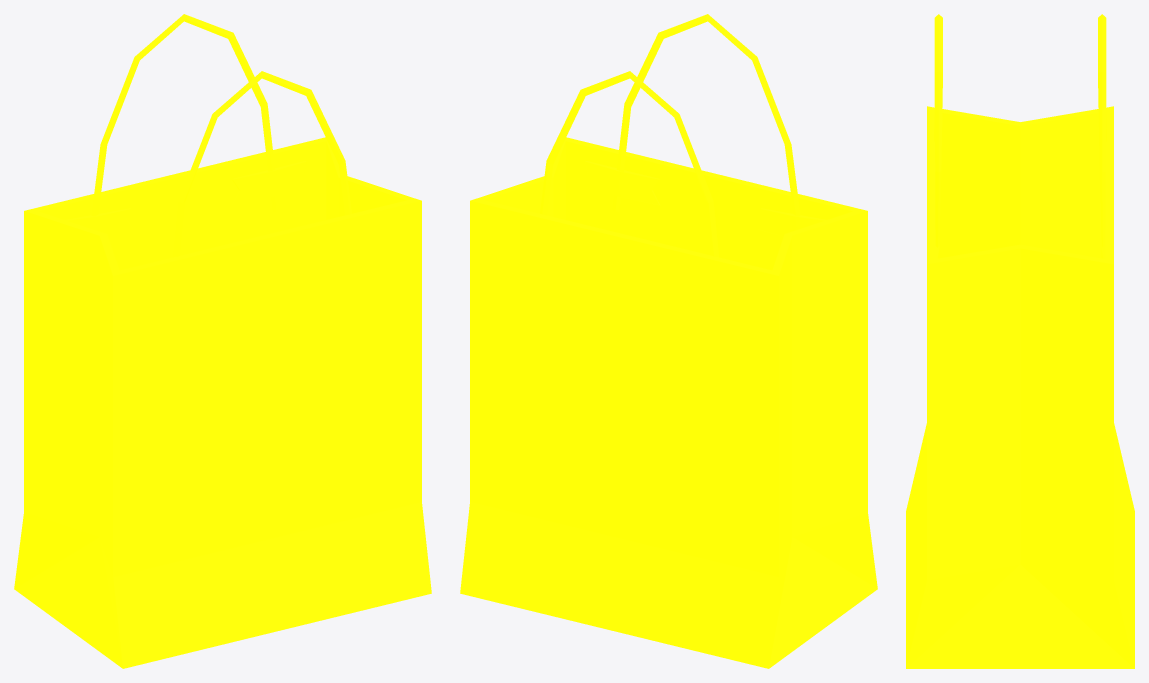
The model's file is bag-gift-christmas-a.glb.
The picture shows the model from 3 angles, left to right: view 1: azimuth 30°, elevation 25°; view 2: azimuth 150°, elevation 25°; view 3: azimuth 270°, elevation 25°; orthographic projection. The views are drawn at different scales.
Visible parts, largest first — view 1: bag_gift_christmas_a; view 2: bag_gift_christmas_a; view 3: bag_gift_christmas_a.
Boxes of the visible parts, x1,y1,x2,y2 form: bag_gift_christmas_a: (14,14,431,668); bag_gift_christmas_a: (460,14,877,668); bag_gift_christmas_a: (906,14,1134,668).
Bounding box in the file's own units: 0.2353 × 0.3997 × 0.1438.
1 material, 1 textured.
